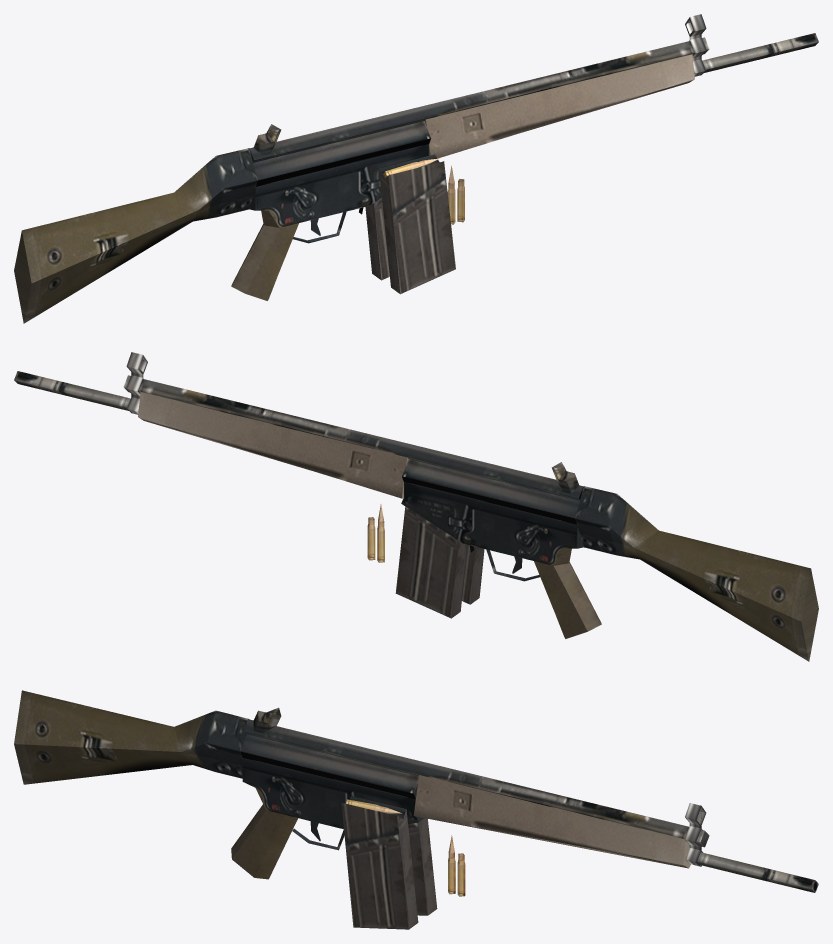
3 renders of one model, top to bottom at view 1: azimuth 30°, elevation 25°; view 2: azimuth 150°, elevation 25°; view 3: azimuth 330°, elevation 25°, orthographic.
Visible parts, largest first — view 1: G3, G3Magazene_Full, G3Magazene; view 2: G3, G3Magazene, G3Magazene_Full; view 3: G3, G3Magazene_Full, G3Magazene.
Boxes of the visible parts, box(x1,y1,x2,y2) form: G3: box(14, 14, 818, 323); G3Magazene_Full: box(379, 154, 455, 294); G3Magazene: box(365, 146, 418, 280); G3: box(14, 352, 818, 661); G3Magazene: box(395, 484, 467, 618); G3Magazene_Full: box(462, 545, 484, 604); G3: box(14, 690, 818, 892); G3Magazene_Full: box(341, 796, 418, 929); G3Magazene: box(376, 790, 437, 915).
Size of the model in its own units: 4.36 by 0.965 by 0.3077.
5 materials, 5 textured.
